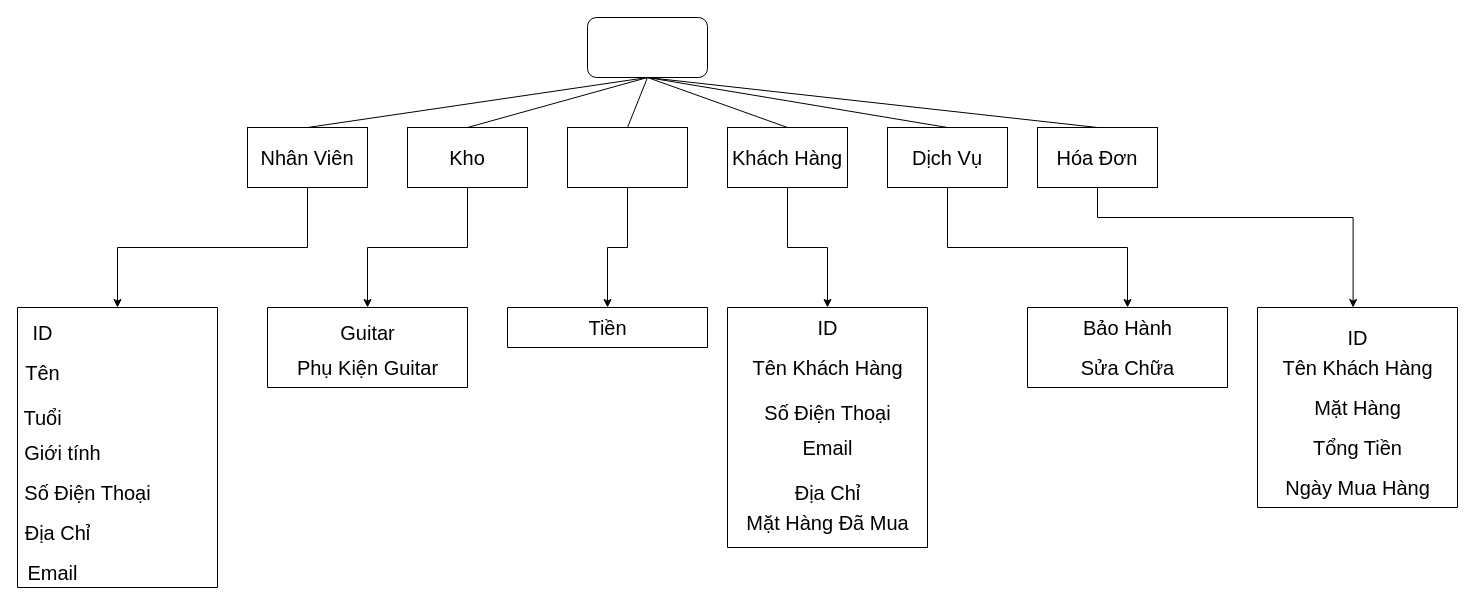
The diagram is 1475 pixels wide and 605 high, and some of its shapes have lost their labels. The shapes that lost their labels are listed below. From the top down, each one's centre as x and y in pixels, then its label:
the point at 647,47: Cửa Hàng Guitar
the point at 627,157: Quỹ
